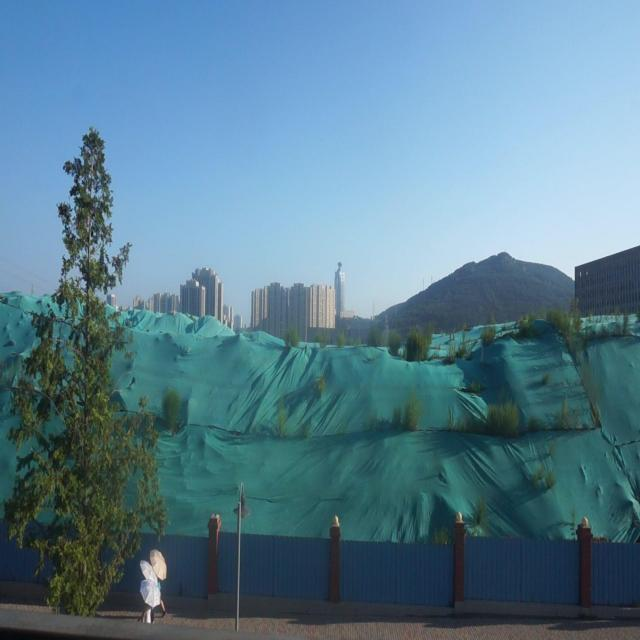UAV: (464, 326, 474, 332)
